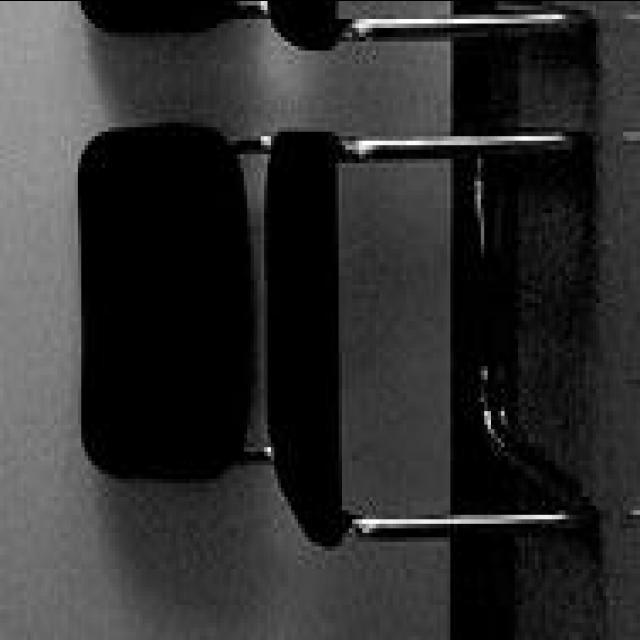chair: (75, 117, 592, 550)
